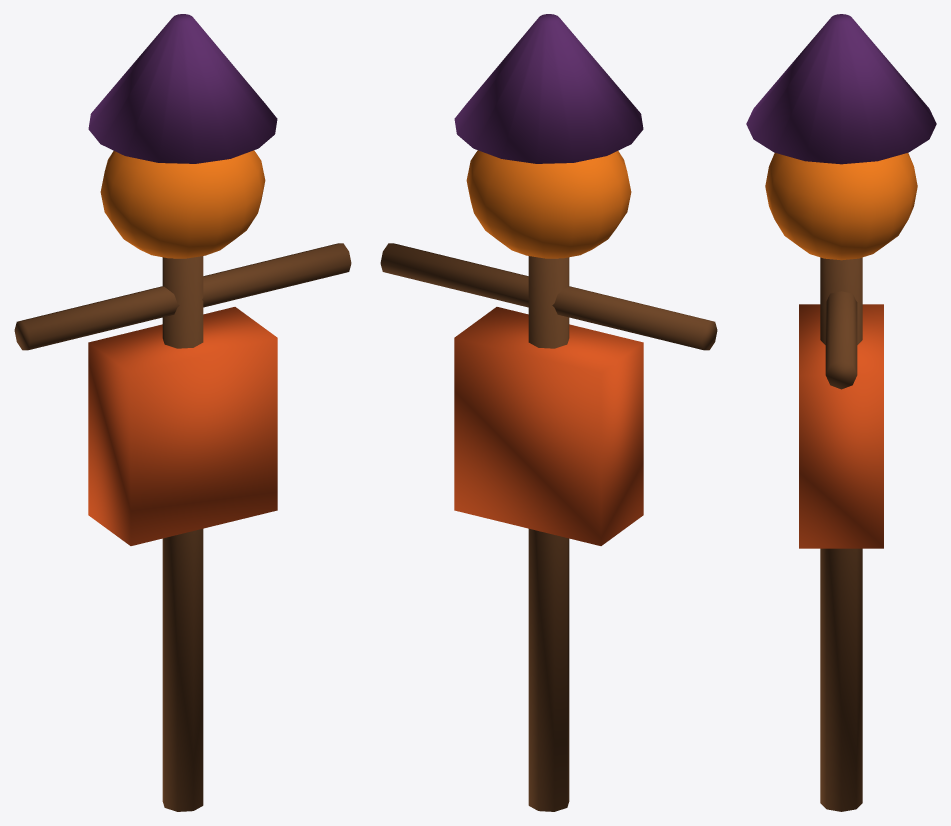
Rendered from scarecrow.glb.
The picture shows the model from 3 angles, left to right: view 1: azimuth 30°, elevation 25°; view 2: azimuth 150°, elevation 25°; view 3: azimuth 270°, elevation 25°; orthographic projection.
Visible parts, largest first — view 1: Scarecrow; view 2: Scarecrow; view 3: Scarecrow.
Boxes of the visible parts, x1,y1,x2,y2 form: Scarecrow: (14, 14, 351, 811); Scarecrow: (380, 14, 717, 811); Scarecrow: (746, 14, 936, 811).
Size of the model in its own units: 0.7 by 1.63 by 0.36.
